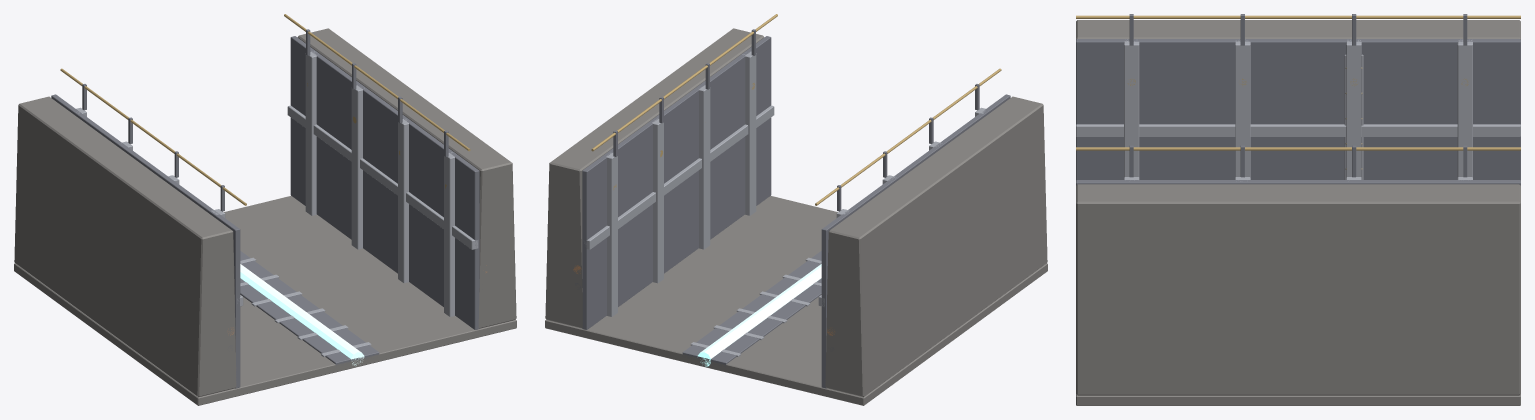
Rendered from gearforge_trench_industrial.glb.
3 renders of one model, left to right at view 1: azimuth 30°, elevation 25°; view 2: azimuth 150°, elevation 25°; view 3: azimuth 270°, elevation 25°, orthographic. The views are drawn at different scales.
Parts seen in each view (by area): view 1: gearforge_trench_industrial_lod0; view 2: gearforge_trench_industrial_lod0; view 3: gearforge_trench_industrial_lod0.
Part boxes in pixels (box(x1,y1,x2,y2)): gearforge_trench_industrial_lod0: box(14, 14, 516, 405); gearforge_trench_industrial_lod0: box(545, 14, 1047, 405); gearforge_trench_industrial_lod0: box(1076, 14, 1520, 405).
Size of the model in its own units: 16 by 9.2 by 16.
